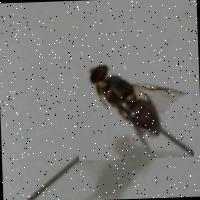Oriental-fruit-fly: (76, 53, 194, 161)
